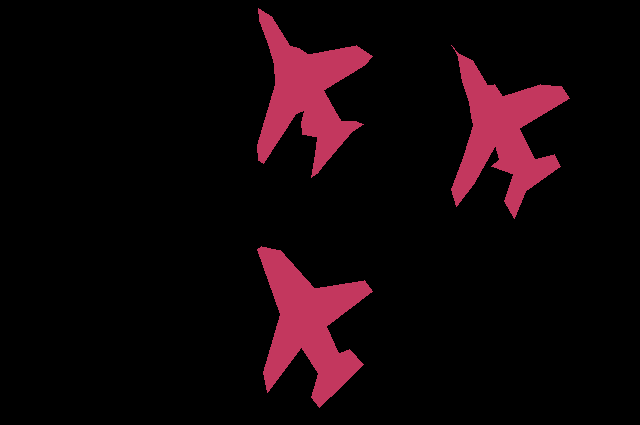Airplane: (451, 45, 570, 219), (257, 8, 373, 177), (257, 246, 373, 407)
